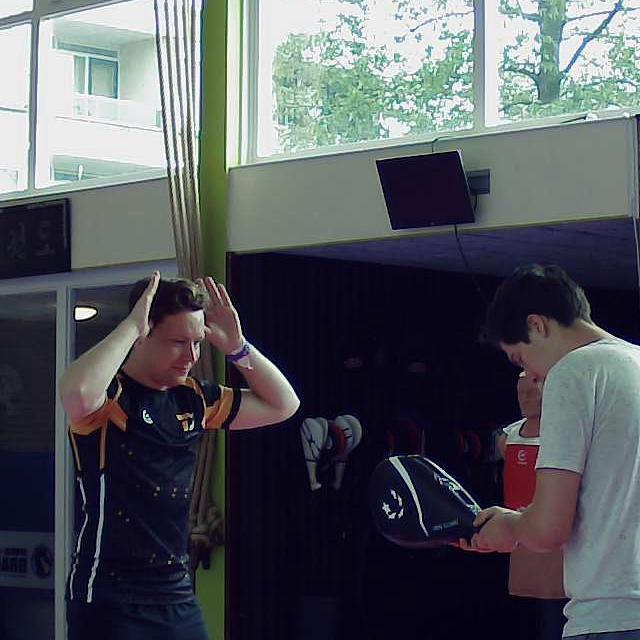paddle: (362, 454, 493, 552)
